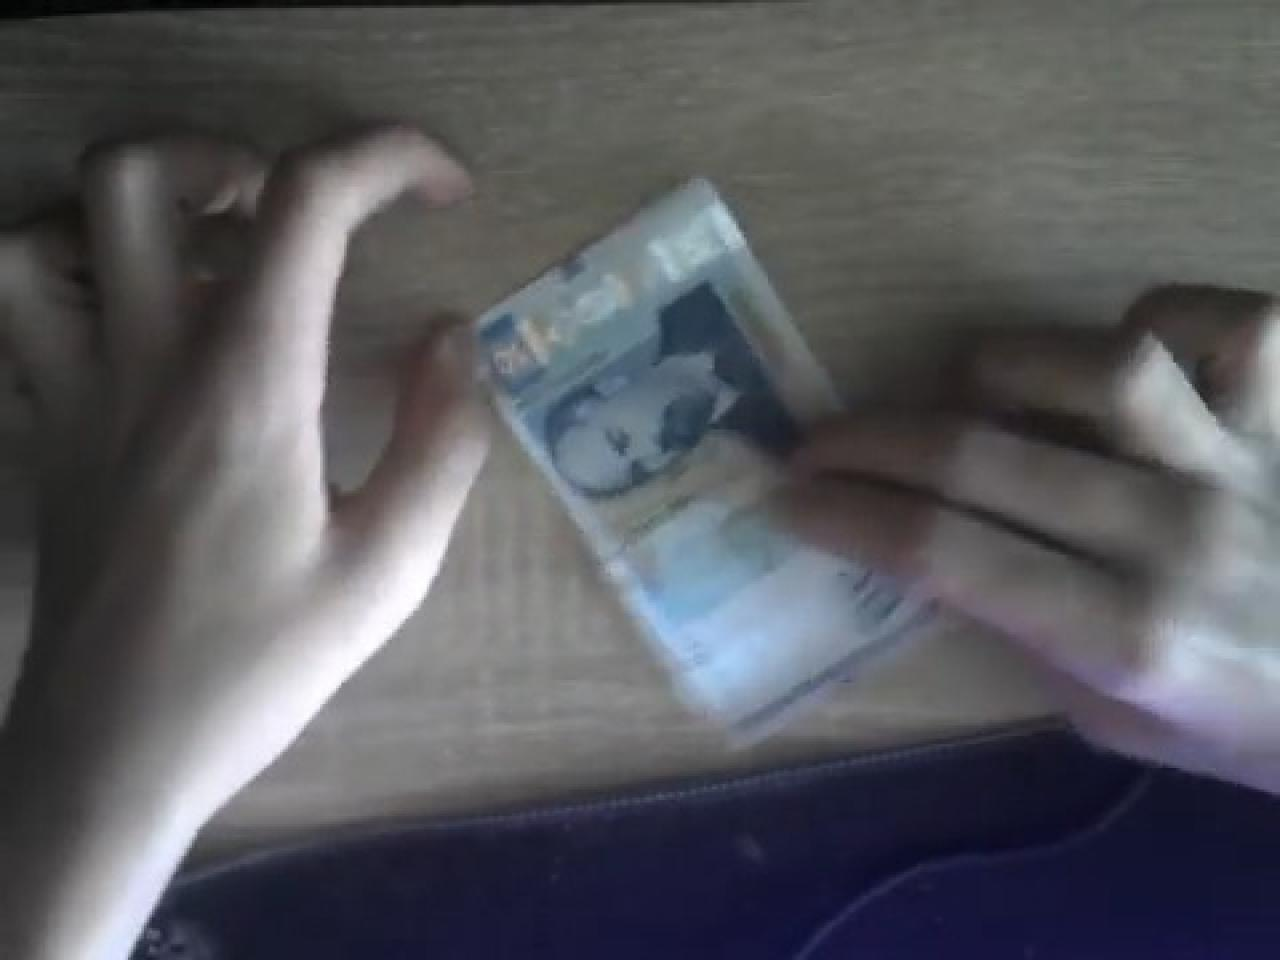20leva: (470, 176, 949, 754)
